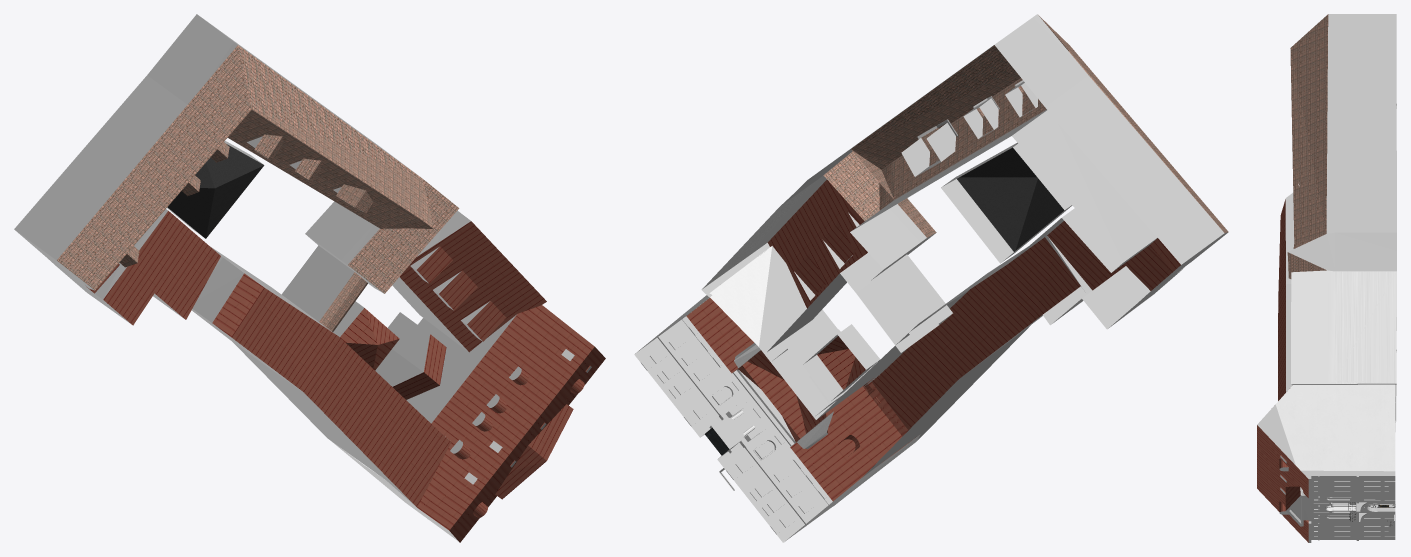
File: Lai_5.obj
3 renders of one model, left to right at view 1: azimuth 30°, elevation 25°; view 2: azimuth 150°, elevation 25°; view 3: azimuth 270°, elevation 25°, orthographic. The views are drawn at different scales.
Visible parts, largest first — view 1: Lai_5; view 2: Lai_5; view 3: Lai_5.
Part boxes in pixels (x1,y1,x2,y2): Lai_5: (14, 14, 605, 542); Lai_5: (634, 14, 1228, 542); Lai_5: (1257, 14, 1396, 542).
Size of the model in its own units: 65.15 by 62.55 by 17.82.
